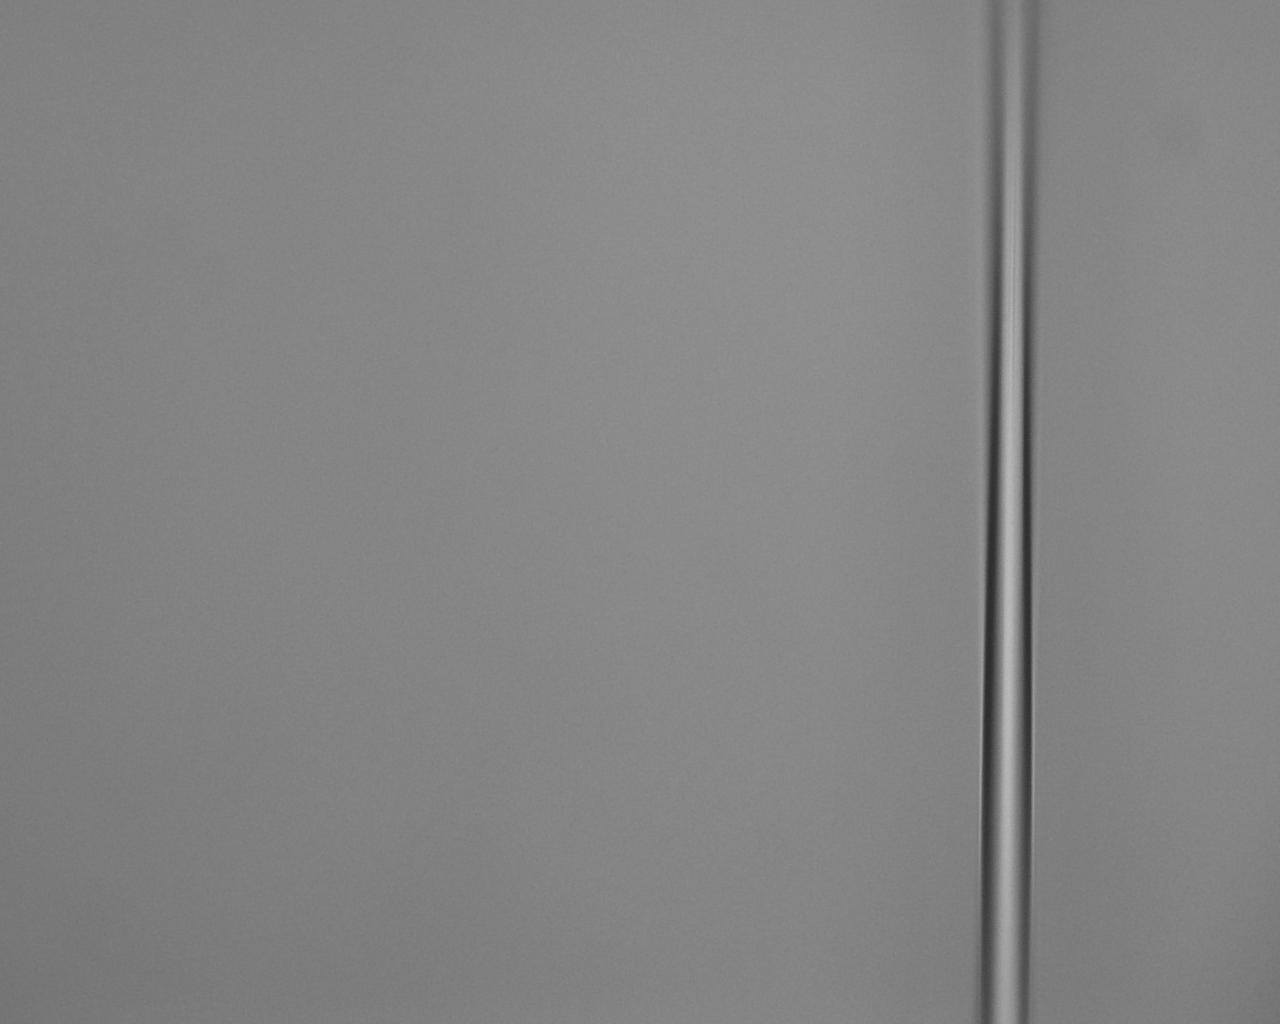fiber: (678, 130, 1280, 380), (285, 0, 303, 552)
